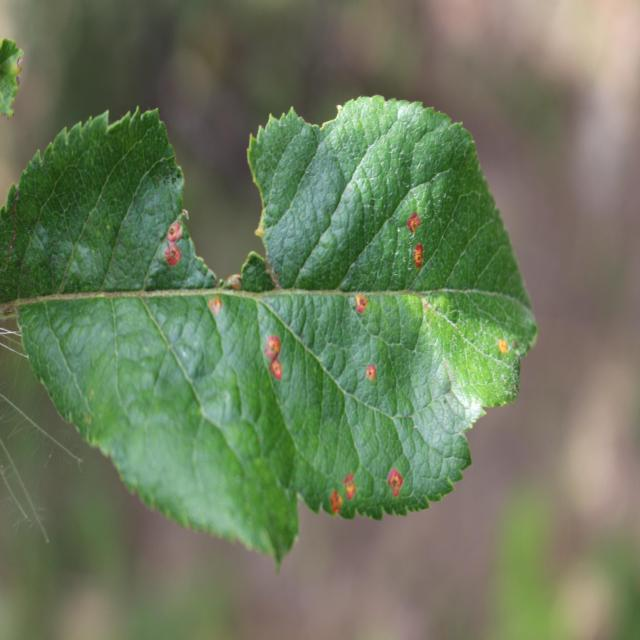Rust: (250, 313, 290, 393), (153, 204, 190, 284), (375, 452, 411, 515), (324, 472, 363, 524), (351, 343, 383, 392), (487, 330, 518, 372), (404, 242, 430, 292), (201, 286, 229, 330), (345, 288, 373, 324), (403, 204, 428, 242)
